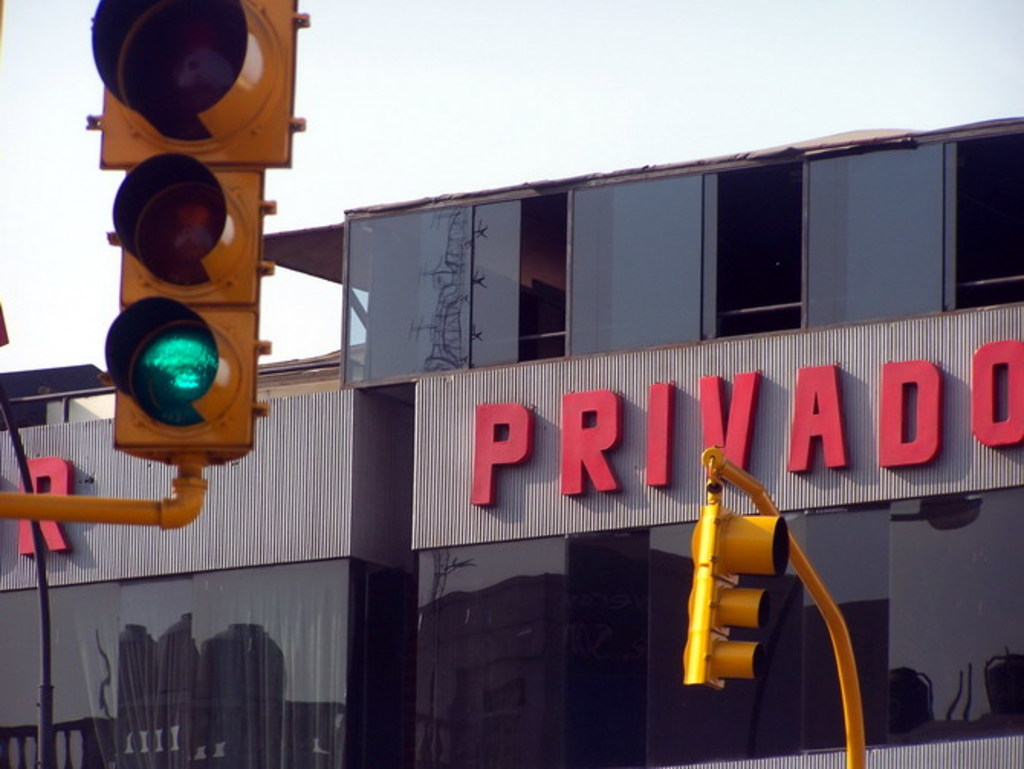green_light: (111, 7, 247, 436)
